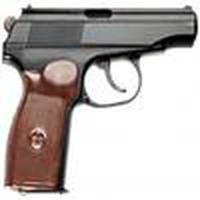gun: (1, 6, 198, 199)
